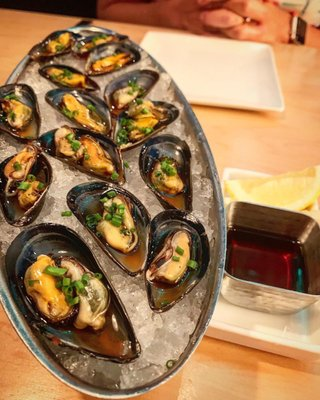curry: (0, 8, 319, 396), (2, 21, 227, 393)
